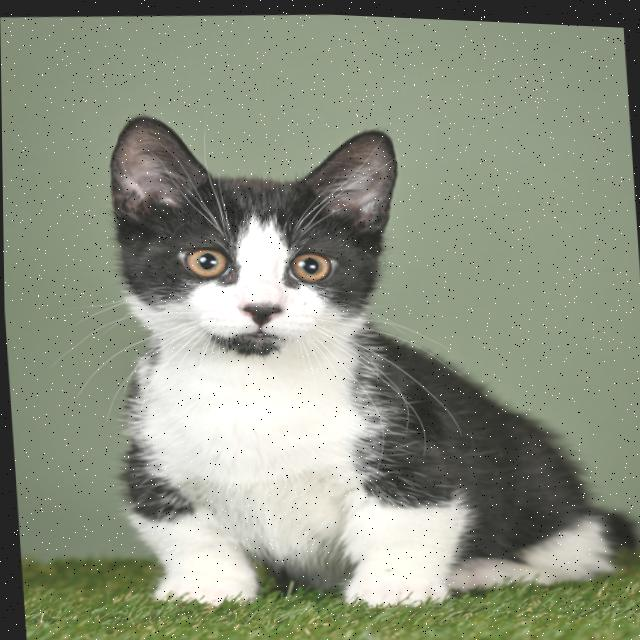Munchkin: (86, 75, 640, 632)
